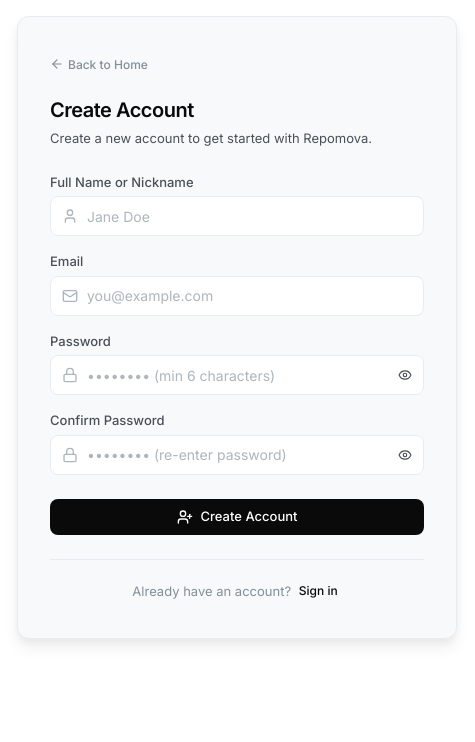
Authentication Flow, Dedicated Pages & Profile Menu › Dedicated Sign-Up Screen (SignUpView) › validates password confirmation matching on registration
The image size is (475, 742).
Type "Alex Tester" into the field with placeholder "Jane Doe" at (237, 216), box top-left (50, 196), bottom-right (424, 236)
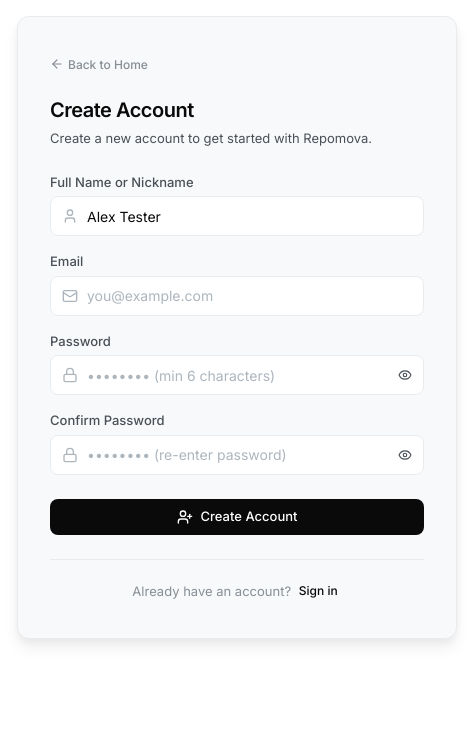
Type "alex@example.com" into the field with placeholder "you@example.com" at (237, 296), box top-left (50, 276), bottom-right (424, 316)
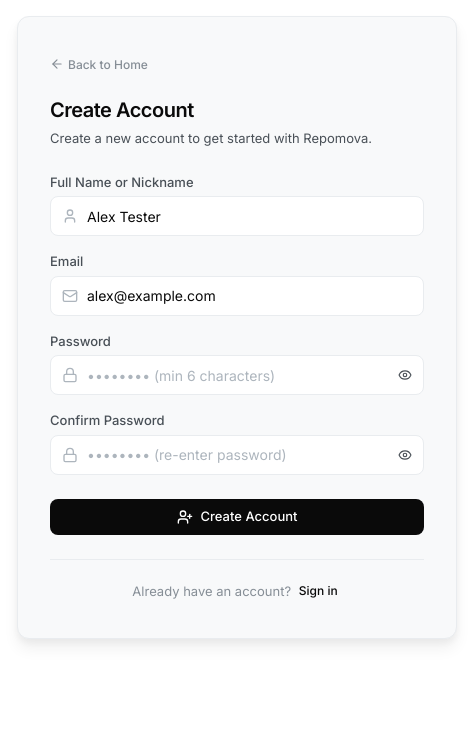
Type "mypassword123" into the password field with placeholder "•••••••• (min 6 characters)" at (237, 375), box top-left (50, 355), bottom-right (424, 395)
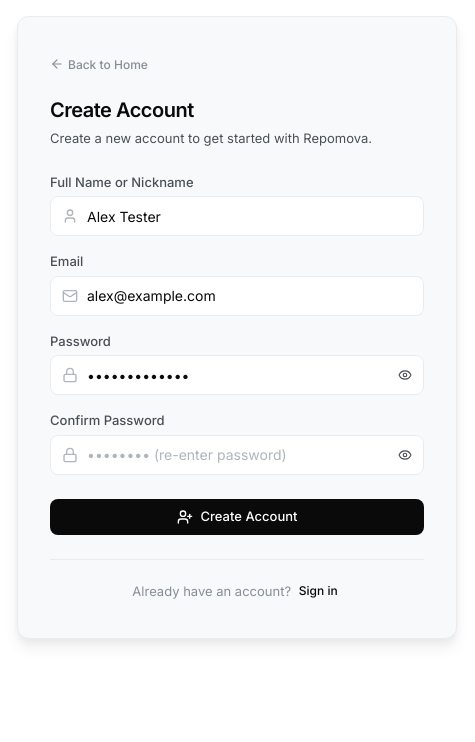
Type "mismatch456" into the password field with placeholder "•••••••• (re-enter password)" at (237, 454), box top-left (50, 434), bottom-right (424, 474)
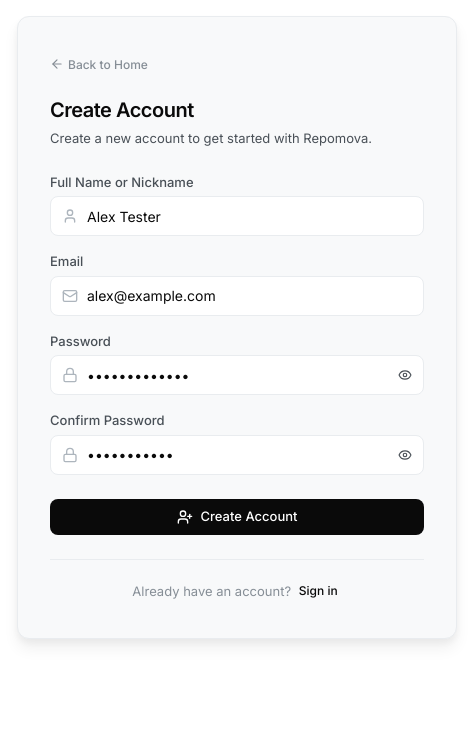
Click the button "Create Account" at (237, 516), box top-left (50, 498), bottom-right (424, 534)
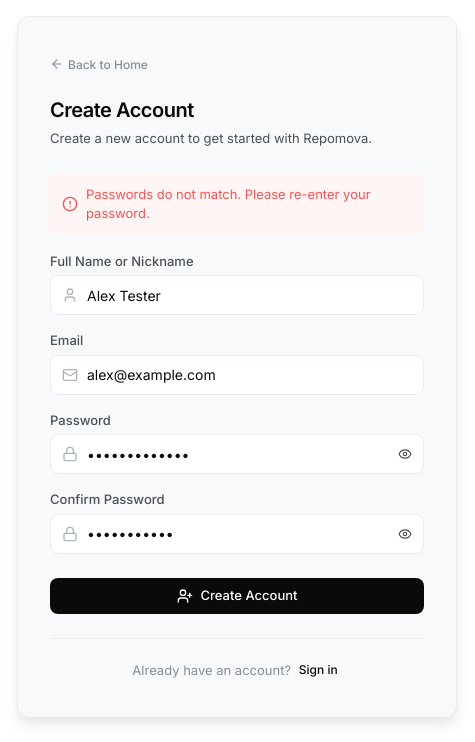
Expected: the text "Passwords do not match. Please re-enter your password." is shown, top-left (86, 184), bottom-right (412, 224)
